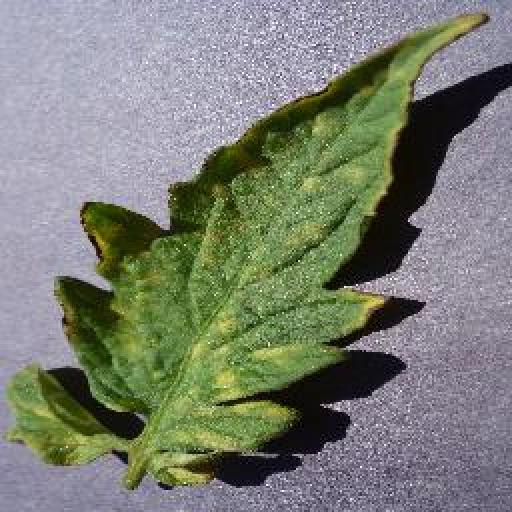Leaf Mold: (6, 15, 489, 489)
